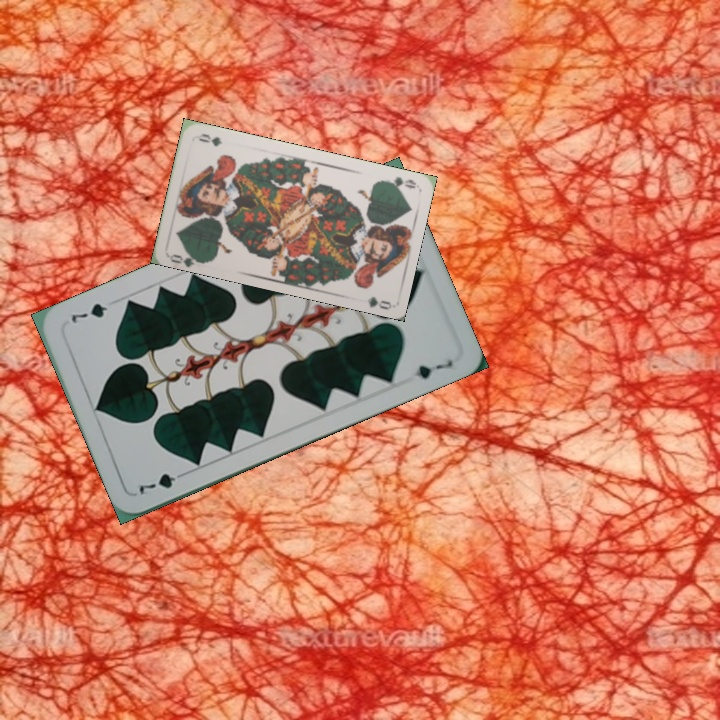G7: (134, 467, 190, 497)
GO: (166, 246, 207, 268), (378, 173, 418, 192)
